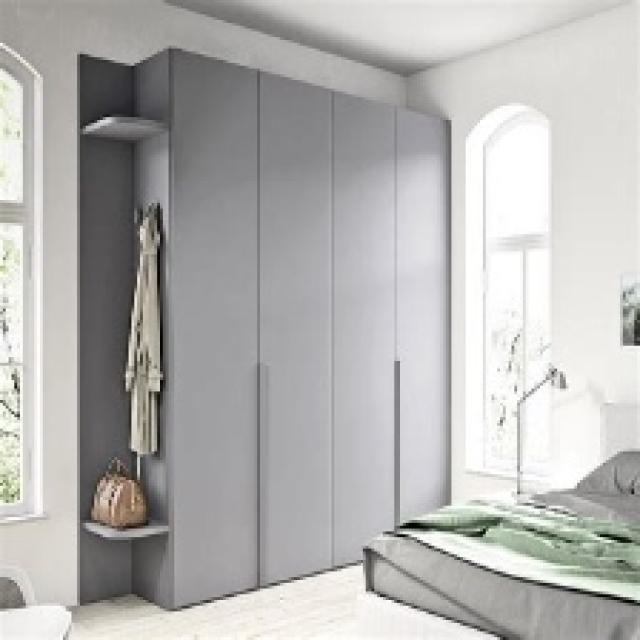Bed: (360, 400, 637, 637)
